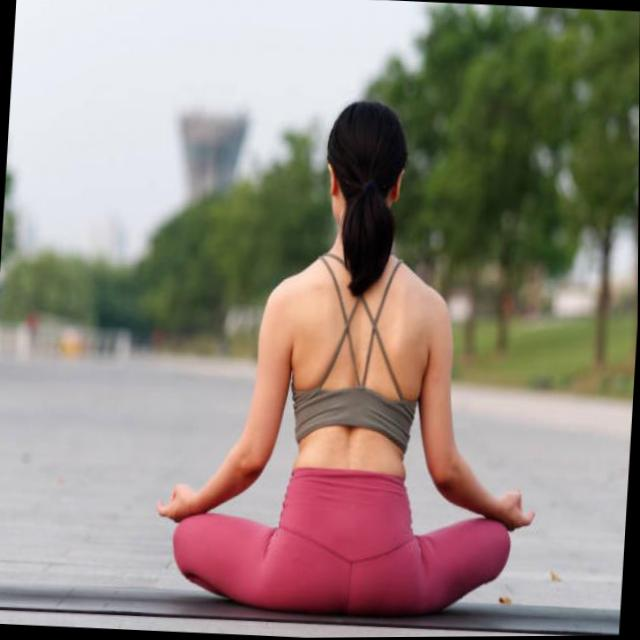no helmet: (321, 93, 413, 268)
